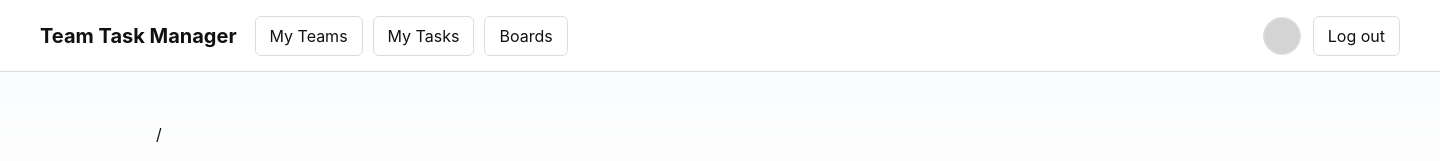
Test: an authenticated user can navigate to their tasks from the header
Click the link "My Tasks": x=424, y=36 [373,16,474,56]
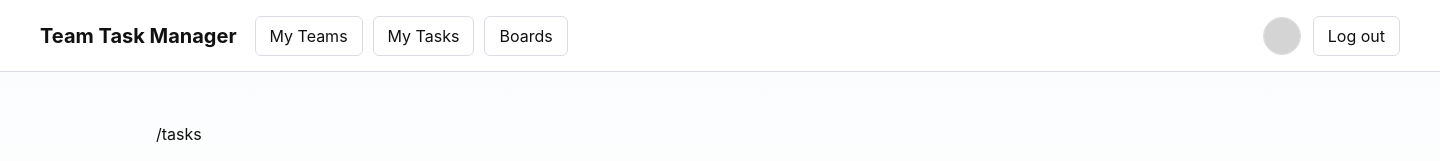
Expected: the text "/tasks" is shown, [156,124,202,144]
